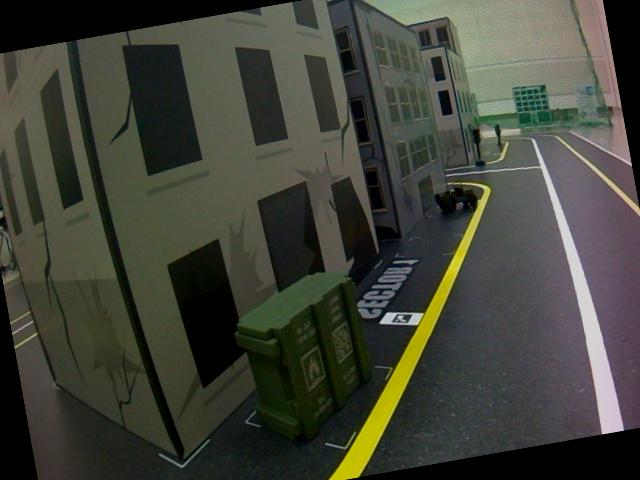Box: (221, 259, 391, 449)
Car: (432, 176, 486, 220)
Enemy: (492, 122, 506, 150)
